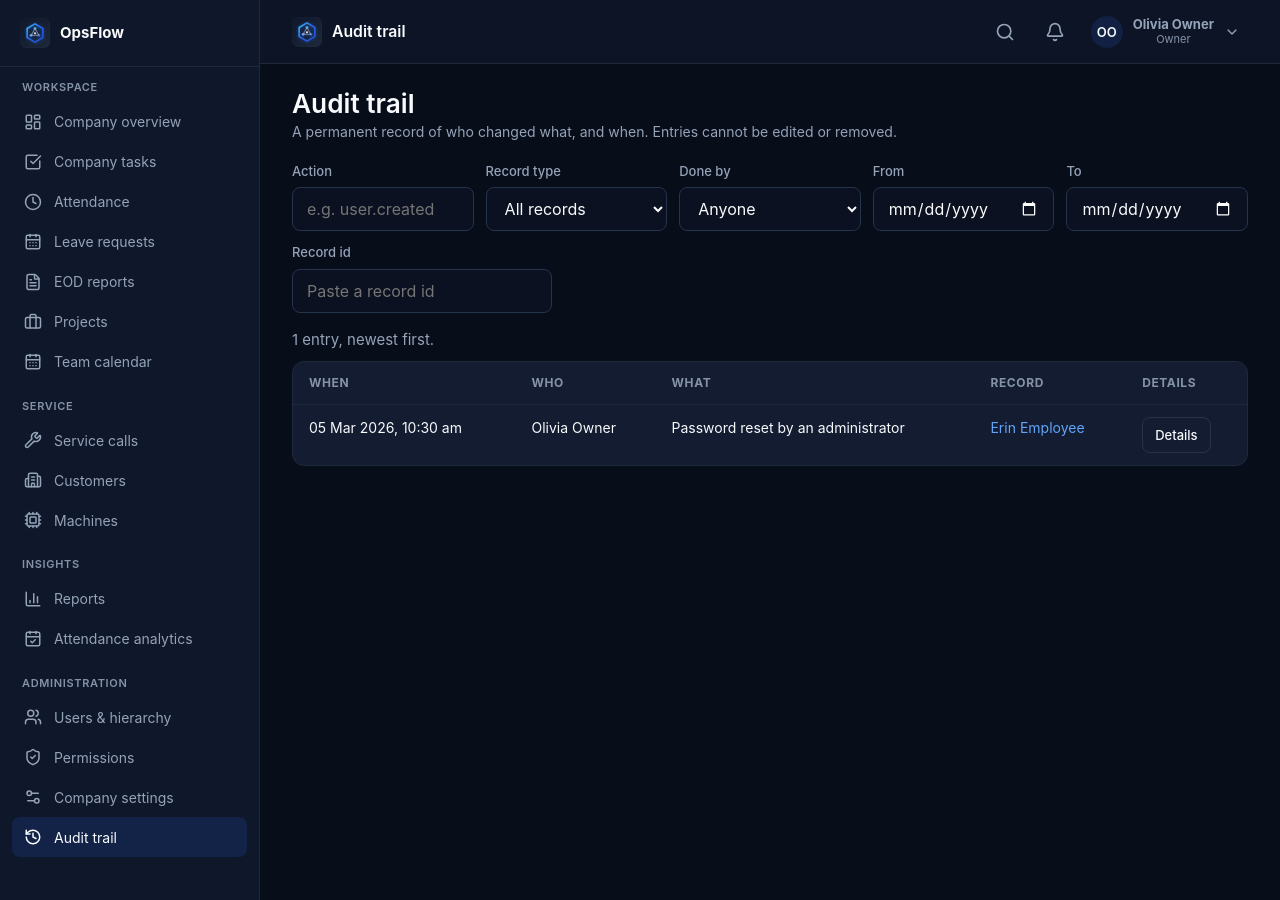
Audit trail › says so when no field details were recorded
Click the button with aria-label "Show details" at (1176, 435), box x1=1142 y1=417 x2=1211 y2=453
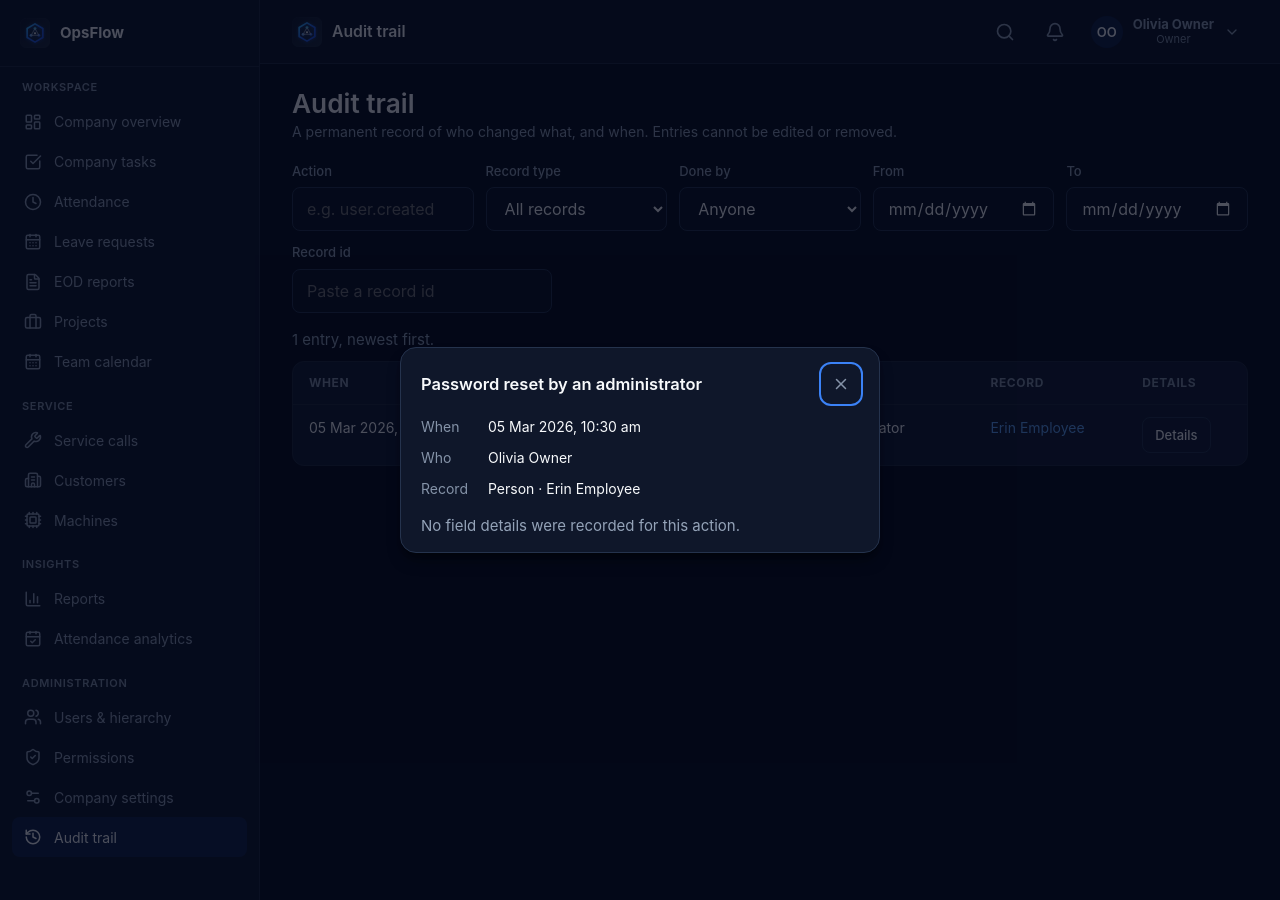
Expected: the text "No field details were recorded for this action." is shown, x1=421 y1=516 x2=740 y2=535
